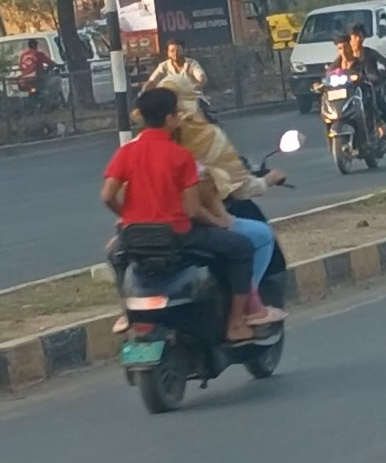BikeWithRider: (97, 73, 309, 416), (314, 21, 386, 177), (14, 37, 70, 110)
NoHelmet: (133, 84, 187, 137), (158, 76, 208, 121), (332, 37, 357, 61), (348, 24, 370, 50)
